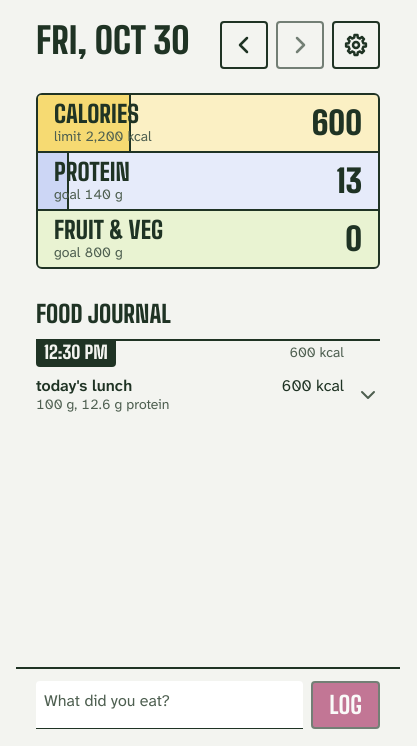
Test: a past day under the midnight and resume rules › counts time spent on Settings as away too
Step 1. Click the button named "Previous day" → (244, 45), box [220,21,268,69]
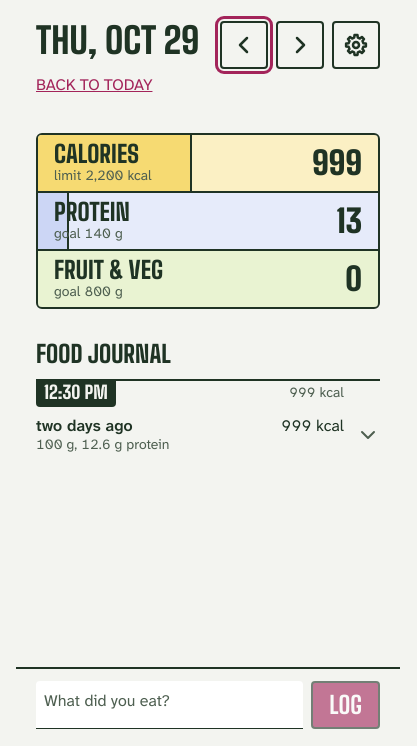
Step 2. Click the link named "Settings" → (356, 45), box [332,21,380,69]
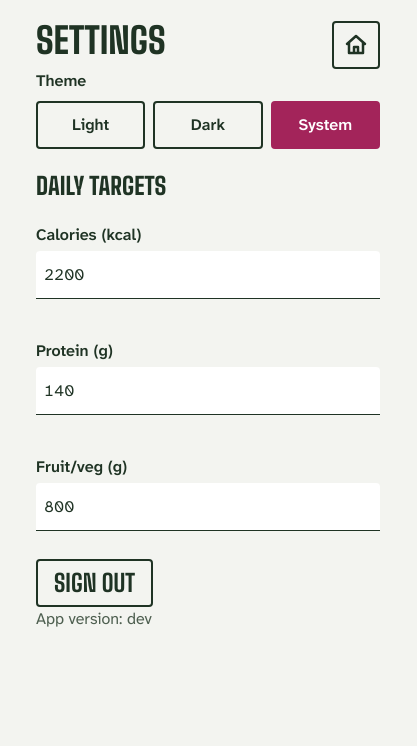
Step 3. Click the link named "Home" → (356, 45), box [332,21,380,69]
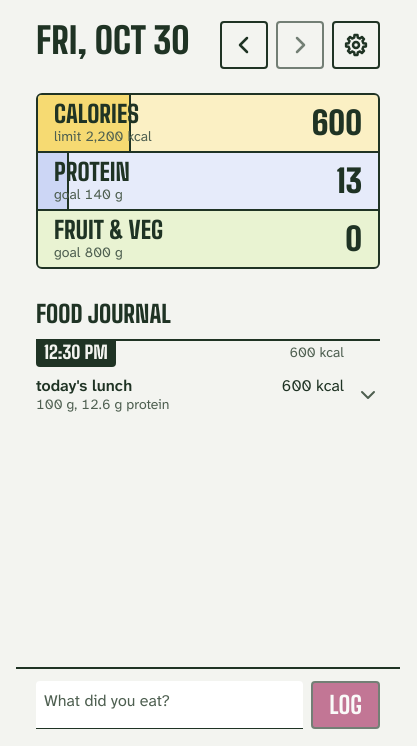
Expected: the text "Fri, Oct 30" is shown, [36,19,190,62]
